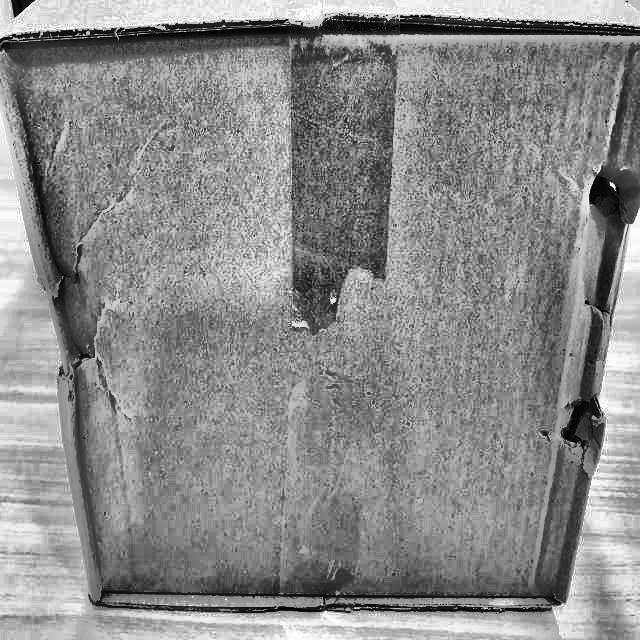box: (0, 0, 639, 633)
hole: (48, 296, 125, 422), (578, 137, 640, 257), (556, 371, 604, 479)
